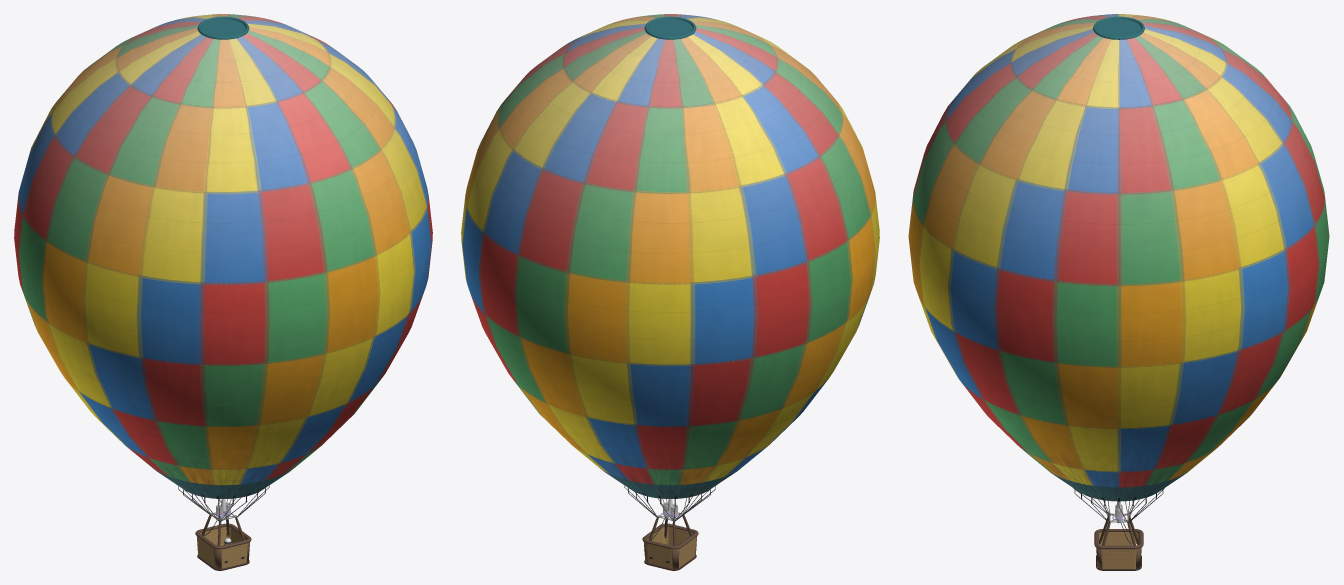
File: globo_aerostatico.fbx
The picture shows the model from 3 angles, left to right: view 1: azimuth 30°, elevation 25°; view 2: azimuth 150°, elevation 25°; view 3: azimuth 270°, elevation 25°; orthographic projection.
Parts seen in each view (by area): view 1: Envelope_Fabric, Basket_Weave, Envelope_CrownValve; view 2: Envelope_Fabric, Basket_Weave, Envelope_CrownValve; view 3: Envelope_Fabric, Basket_Weave, Envelope_CrownValve.
Boxes of the visible parts, x1,y1,x2,y2 form: Envelope_Fabric: [14, 14, 432, 498]; Basket_Weave: [197, 526, 248, 568]; Envelope_CrownValve: [201, 19, 245, 36]; Envelope_Fabric: [461, 14, 879, 498]; Basket_Weave: [645, 526, 696, 568]; Envelope_CrownValve: [648, 19, 692, 36]; Envelope_Fabric: [908, 14, 1329, 501]; Basket_Weave: [1097, 532, 1140, 568]; Envelope_CrownValve: [1096, 19, 1141, 36].
Bounding box in the file's own units: 1800 × 2531 × 1800.
19 materials, 13 textured.
